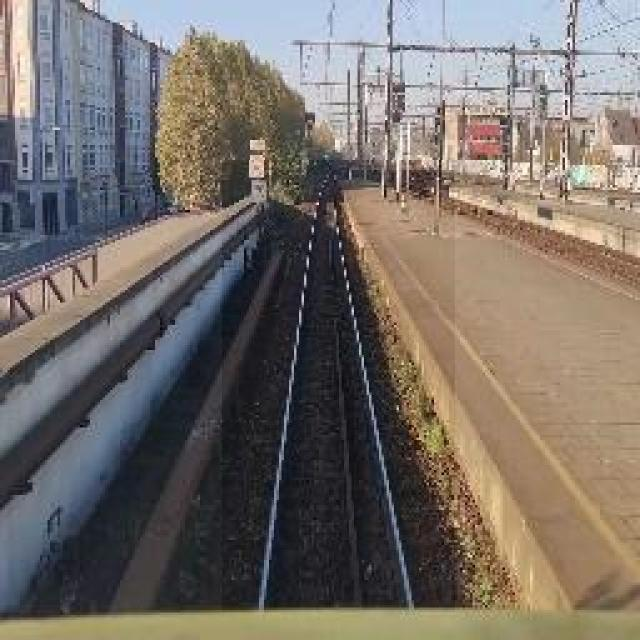rail: (224, 161, 456, 613)
